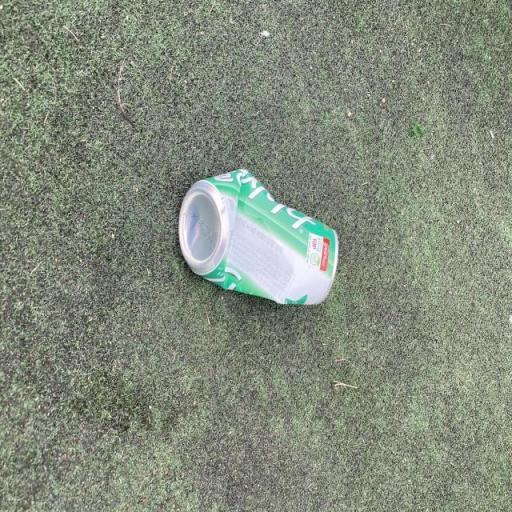metal: (159, 148, 361, 372)
